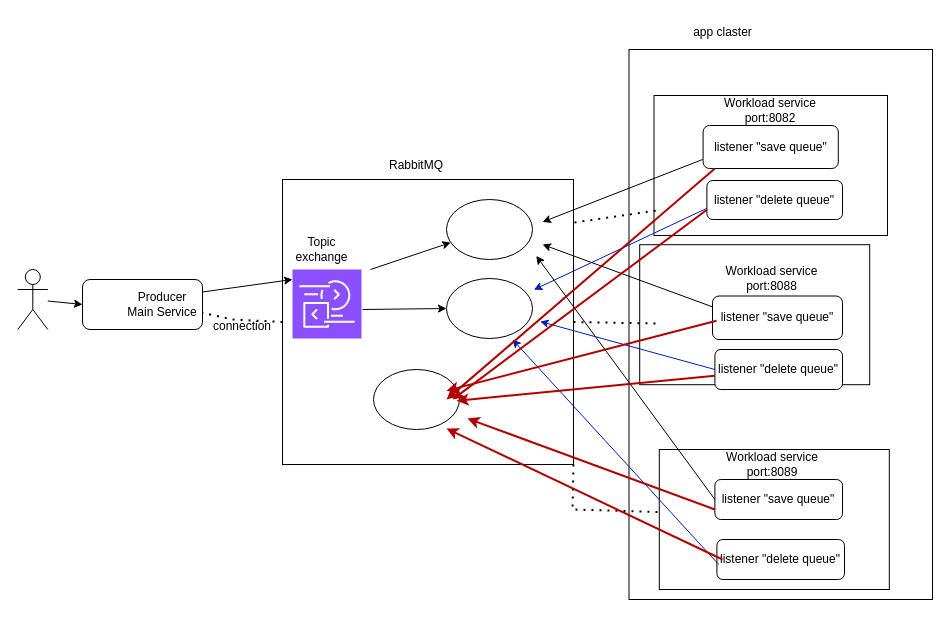
This 950x617 diagram has some shape labels left out. The shapes that lost their labels are listed below. From the top down, each one's centre as x and y in pixels, then its label:
At pixel 489 229: "Queue for save".
At pixel 32 299: "Actor".
At pixel 489 308: "Queue for delete".
At pixel 416 399: "Queue for dead letter".
